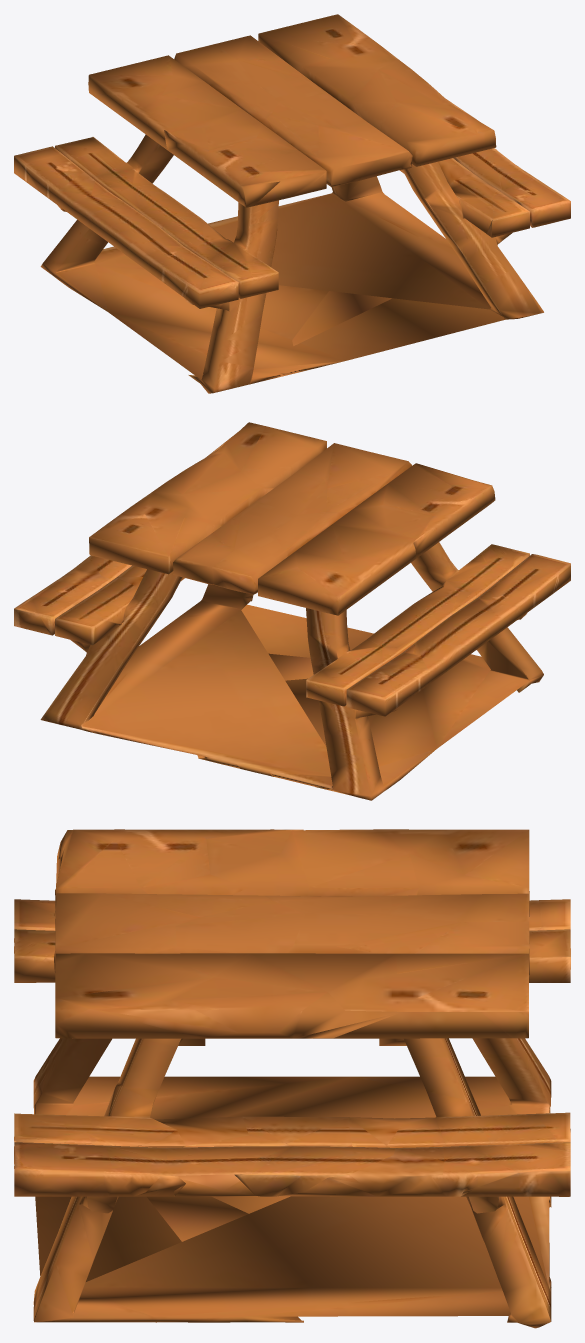
File: picnic_table.glb
3 renders of one model, top to bottom at view 1: azimuth 30°, elevation 25°; view 2: azimuth 150°, elevation 25°; view 3: azimuth 270°, elevation 25°, orthographic. The views are drawn at different scales.
Size of the model in its own units: 1.91 by 0.9438 by 1.66.
1 material, 1 textured.
